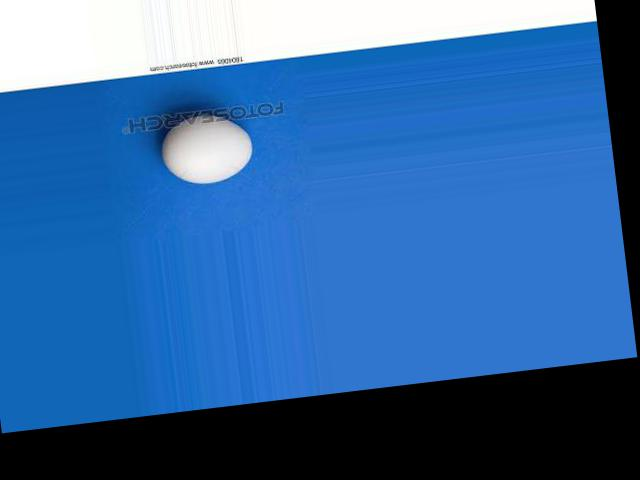egg: (158, 108, 255, 187)
